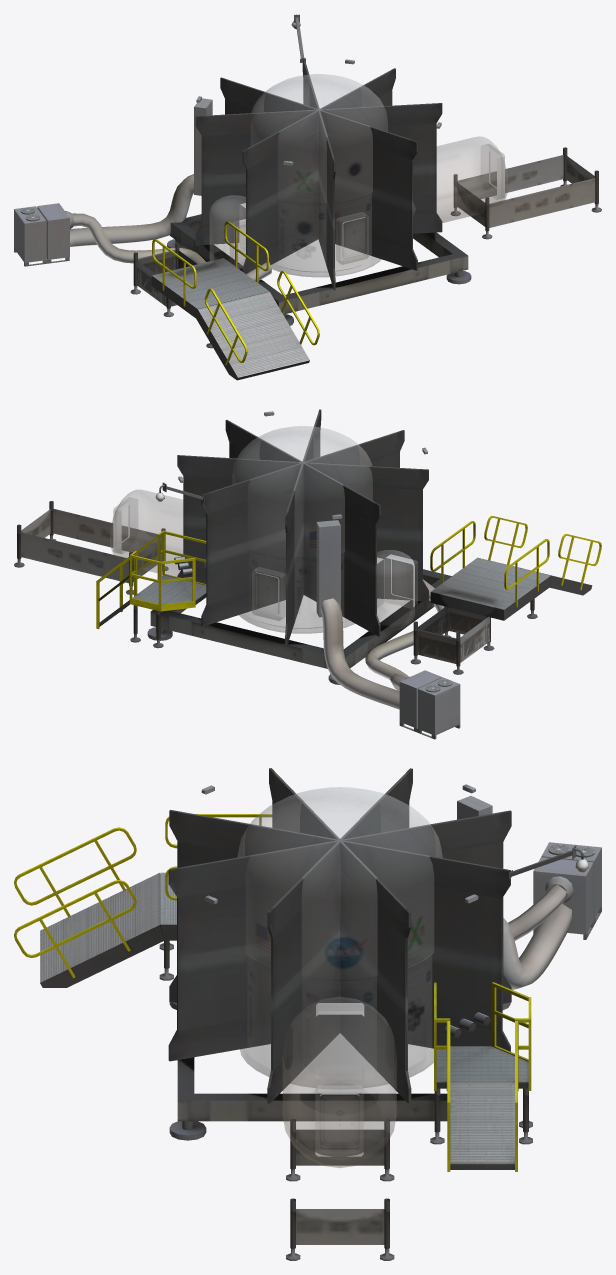
Rendered from nasa-hdu-habitat.glb.
3 renders of one model, top to bottom at view 1: azimuth 30°, elevation 25°; view 2: azimuth 150°, elevation 25°; view 3: azimuth 270°, elevation 25°, orthographic. The views are drawn at different scales.
Visible parts, largest first — view 1: HDU_lowRez_part2, HDU_lowRez_part1; view 2: HDU_lowRez_part2, HDU_lowRez_part1; view 3: HDU_lowRez_part2, HDU_lowRez_part1.
Part boxes in pixels (left/top/right/bottom): HDU_lowRez_part2: left=14, top=14, right=601, bottom=380; HDU_lowRez_part1: left=210, top=74, right=508, bottom=276; HDU_lowRez_part2: left=14, top=409, right=601, bottom=739; HDU_lowRez_part1: left=110, top=426, right=417, bottom=633; HDU_lowRez_part2: left=14, top=768, right=601, bottom=1260; HDU_lowRez_part1: left=237, top=787, right=442, bottom=1167.
Bounding box in the file's own units: 656 × 230 × 459.
Materials: 2 (2 with a texture image).
